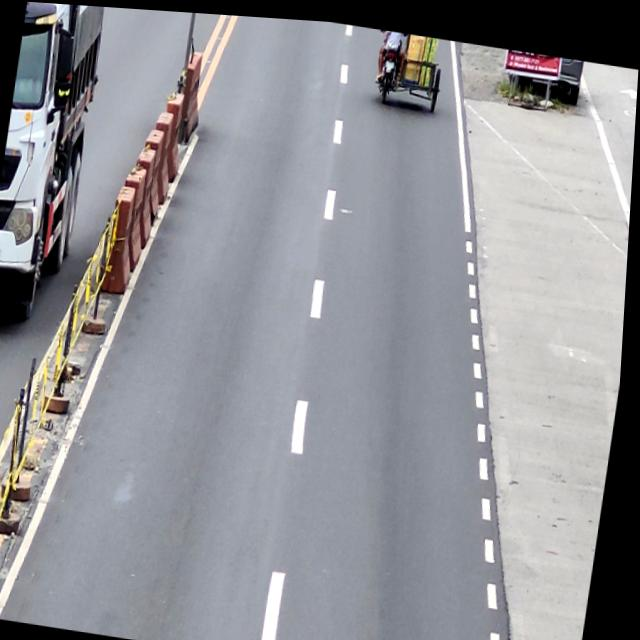License-Plate: (384, 53, 395, 65)
Tricycle: (373, 24, 449, 109)
